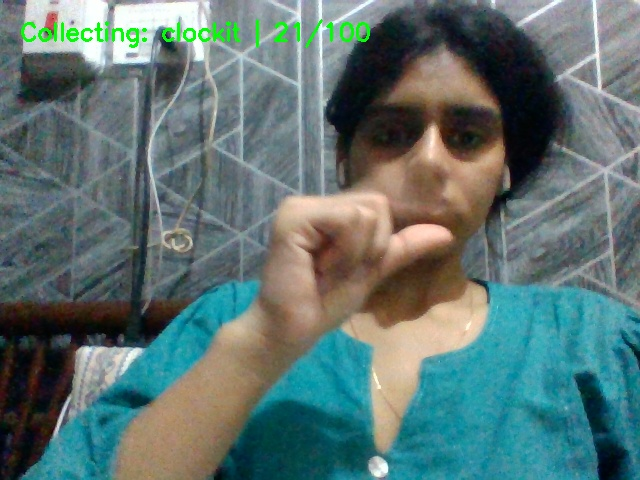clockit: (252, 171, 515, 320)
